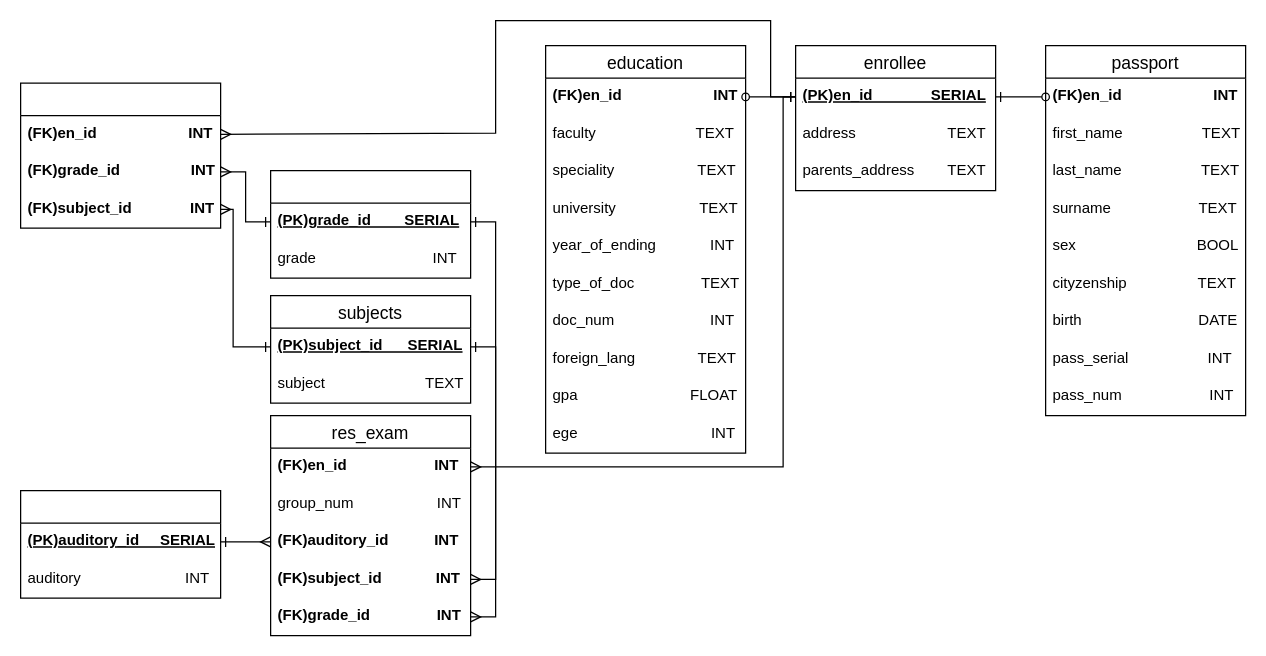
Image size: 1266x656. Some labels were removed from this diagram. The box of each missing label's shape, as (x1, y1, x2, y2) in pixels:
auditories: (19, 489, 221, 598)
grades: (269, 169, 471, 278)
res_diploma: (19, 82, 221, 228)
